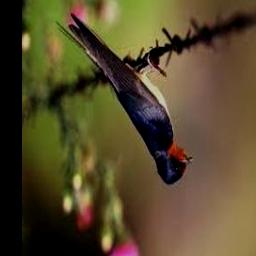Swallow: (56, 13, 193, 183)
